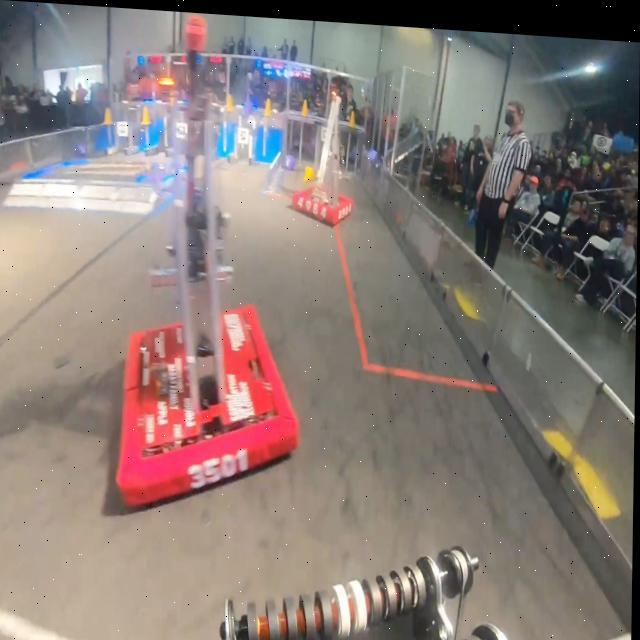robot: (114, 13, 300, 517), (294, 81, 356, 226)
